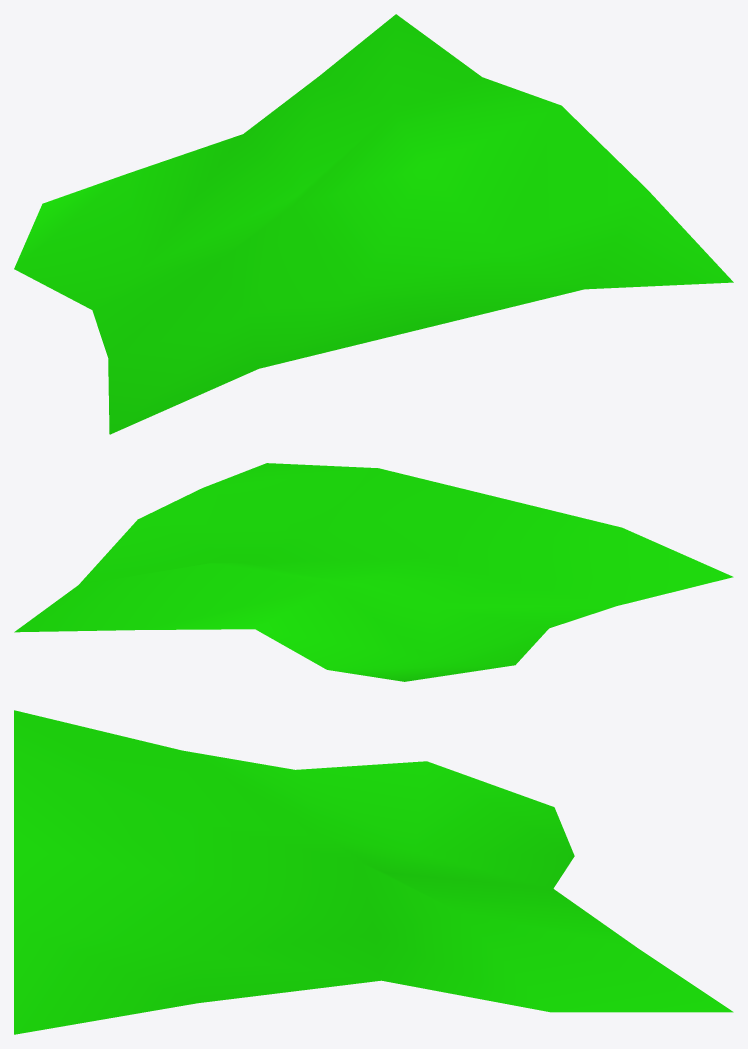
Rendered from Lechuga.glb.
3 renders of one model, top to bottom at view 1: azimuth 30°, elevation 25°; view 2: azimuth 150°, elevation 25°; view 3: azimuth 270°, elevation 25°, orthographic. The views are drawn at different scales.
Parts seen in each view (by area): view 1: Plano; view 2: Plano; view 3: Plano.
Part boxes in pixels (left/top/right/bottom): Plano: left=14, top=14, right=733, bottom=434; Plano: left=14, top=463, right=733, bottom=681; Plano: left=14, top=710, right=733, bottom=1034.
Size of the model in its own units: 1.04 by 0.122 by 0.977.
